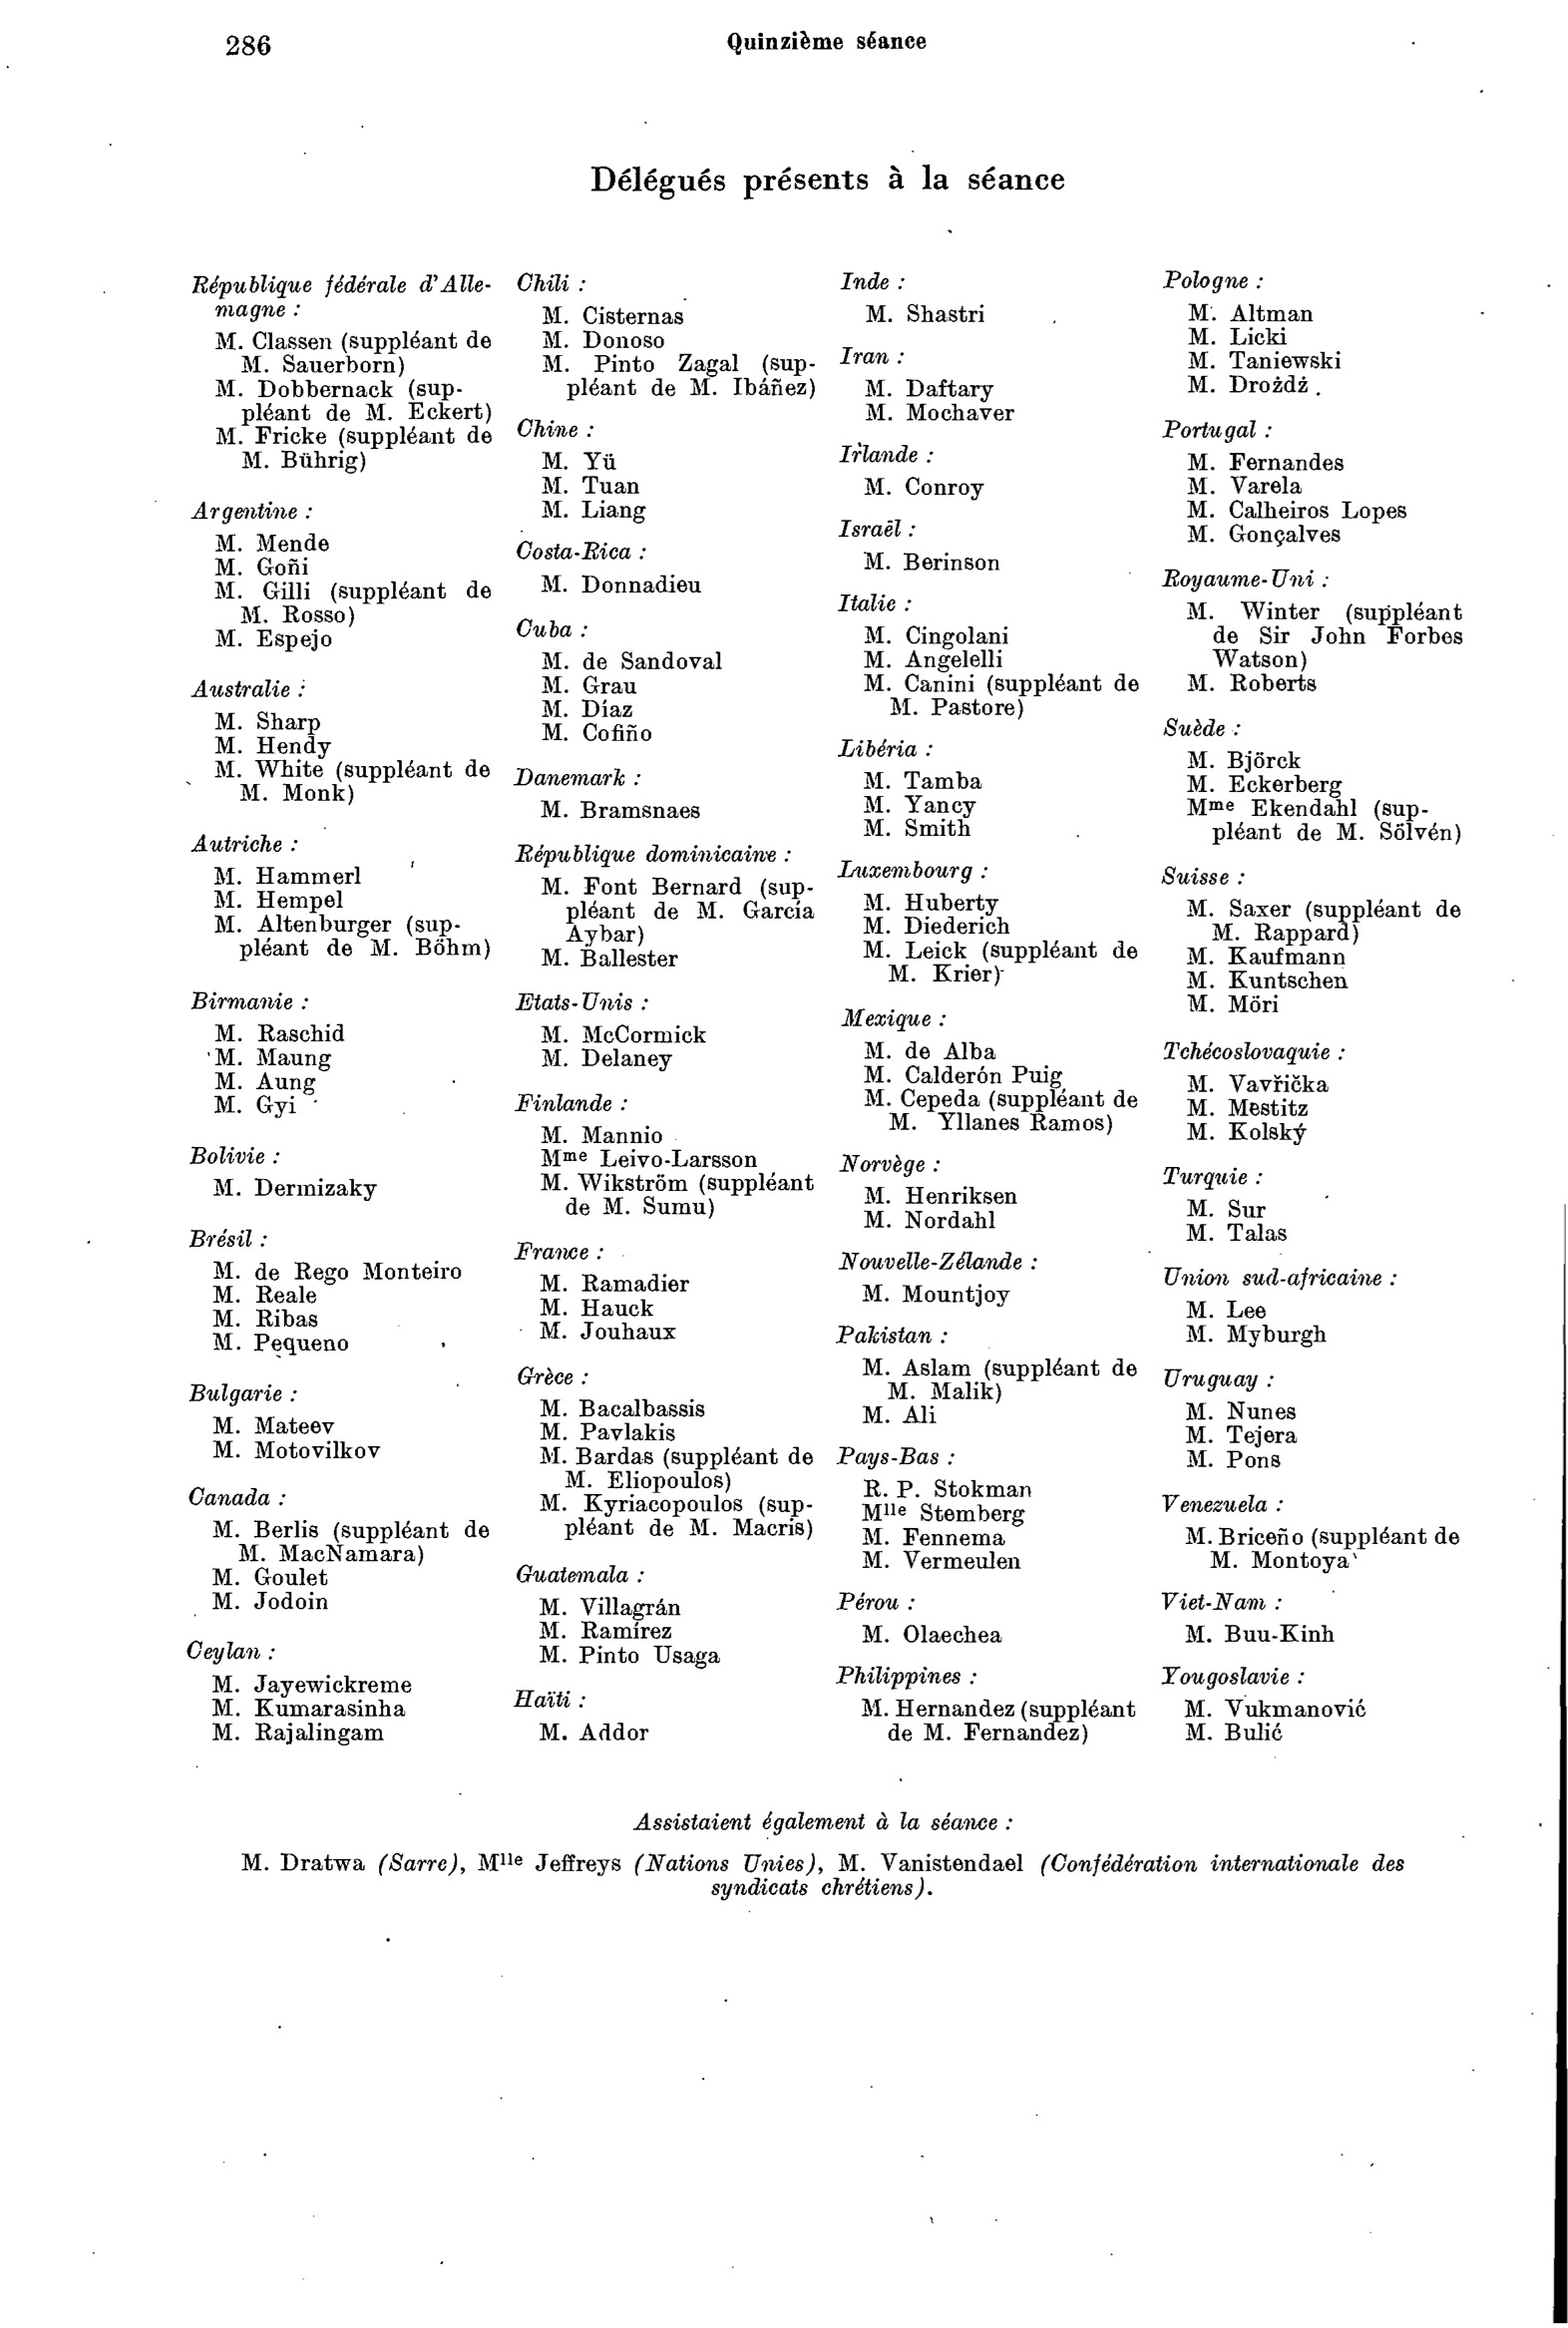MainZone-Entry: (170, 269, 497, 479), (504, 1358, 819, 1543), (181, 493, 495, 654), (1148, 859, 1467, 1011), (1148, 558, 1470, 700), (499, 1081, 819, 1224), (1148, 711, 1470, 848), (500, 831, 819, 968), (512, 262, 819, 404), (181, 828, 492, 968), (831, 997, 1141, 1137), (181, 667, 494, 804), (173, 1479, 490, 1614), (822, 585, 1138, 720), (828, 850, 1141, 985), (178, 1219, 471, 1361), (1147, 407, 1418, 545), (823, 1313, 1144, 1425), (822, 1659, 1137, 1758), (1141, 257, 1353, 400), (508, 614, 731, 746), (1149, 1482, 1465, 1571), (178, 1632, 425, 1745), (831, 1439, 1033, 1573), (502, 1557, 724, 1671), (179, 980, 350, 1124), (1151, 1258, 1409, 1351), (1150, 1032, 1353, 1145), (497, 1232, 697, 1341), (1148, 1659, 1380, 1745), (499, 984, 713, 1072), (178, 1372, 389, 1461), (824, 729, 987, 840), (509, 412, 657, 525), (837, 343, 1026, 431), (826, 1147, 1023, 1230), (1157, 1360, 1301, 1474), (825, 1245, 1046, 1310), (179, 1134, 389, 1202), (511, 756, 713, 824), (1153, 1156, 1301, 1248), (1146, 1581, 1343, 1647), (507, 536, 711, 597), (819, 1581, 1010, 1647), (822, 511, 1009, 578), (826, 262, 999, 329), (829, 436, 998, 500), (501, 1679, 656, 1747)
MainZone-Head: (579, 147, 1078, 213)
MainZone-Other: (233, 1845, 1416, 1905), (619, 1803, 1024, 1833)
StampZone: (712, 17, 938, 68)
TitlePageZone: (212, 24, 279, 66)
